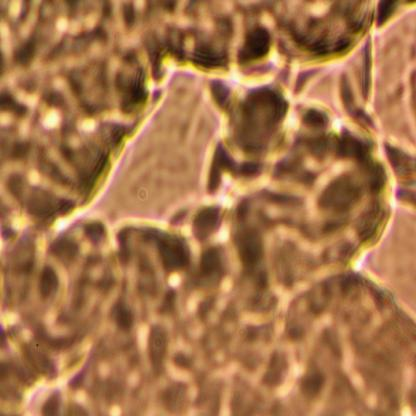Normal: (0, 24, 386, 416)
